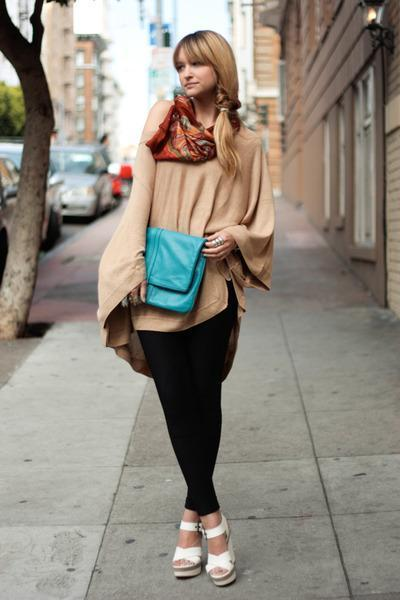bag: (146, 227, 227, 311)
jacket: (97, 108, 281, 371)
pants: (137, 310, 239, 515)
shoe: (172, 516, 232, 577)
